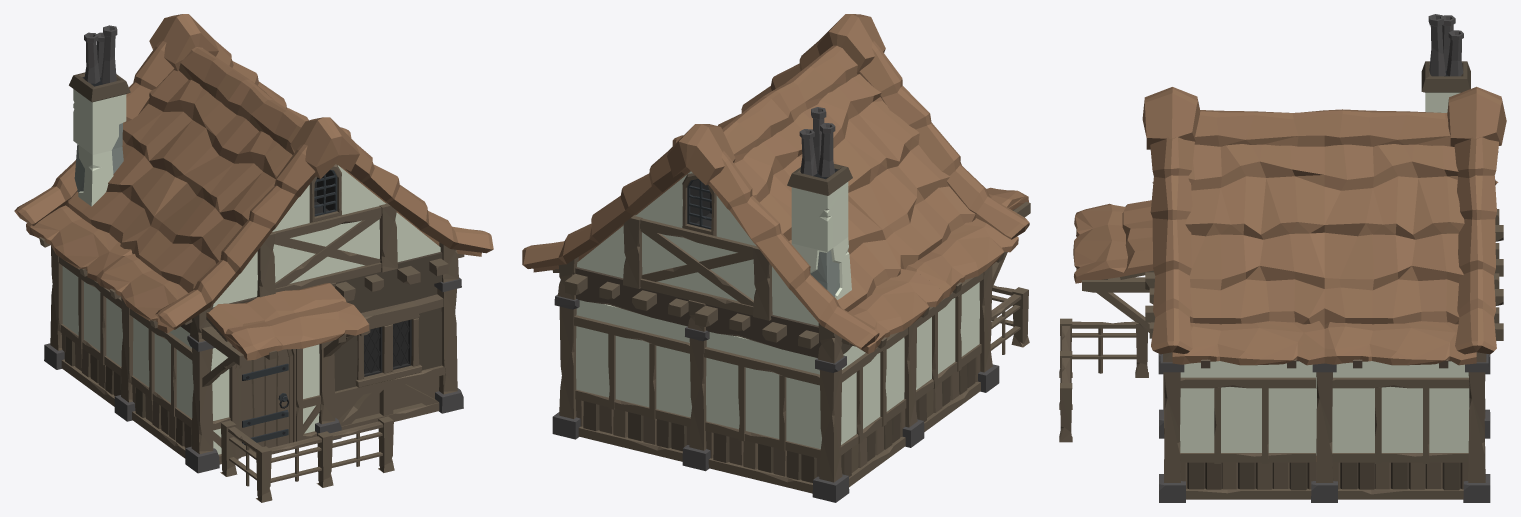
The model's file is house_01.fbx.
3 renders of one model, left to right at view 1: azimuth 30°, elevation 25°; view 2: azimuth 150°, elevation 25°; view 3: azimuth 270°, elevation 25°, orthographic. The views are drawn at different scales.
Visible parts, largest first — view 1: yuriiradkevych_medieval house; view 2: yuriiradkevych_medieval house; view 3: yuriiradkevych_medieval house.
Part boxes in pixels (x1,y1,x2,y2): yuriiradkevych_medieval house: (14,14,493,502); yuriiradkevych_medieval house: (522,14,1030,502); yuriiradkevych_medieval house: (1059,14,1506,502).
Size of the model in its own units: 678 by 666 by 735.
